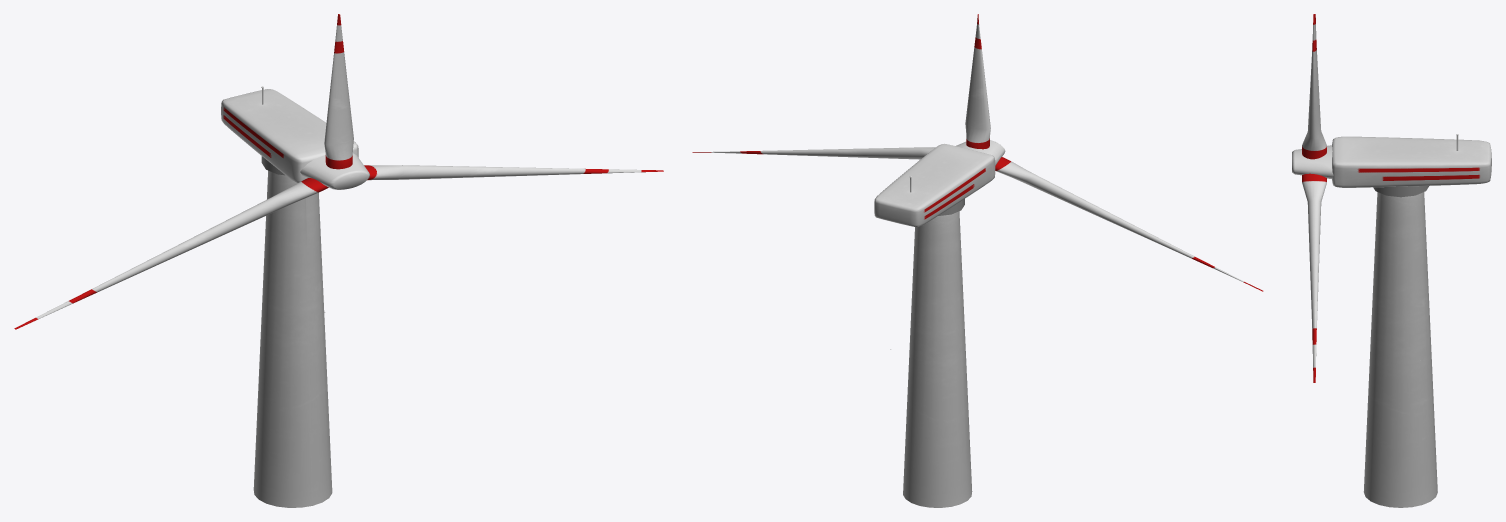
File: turbine_new_small_degenerate_all.glb
The picture shows the model from 3 angles, left to right: view 1: azimuth 30°, elevation 25°; view 2: azimuth 150°, elevation 25°; view 3: azimuth 270°, elevation 25°; orthographic projection. The views are drawn at different scales.
Parts seen in each view (by area): view 1: polySurface12_lambert1_0.001, polySurface10_lambert1_0.001, polySurface11_lambert1_0.001; view 2: polySurface12_lambert1_0.001, polySurface10_lambert1_0.001, polySurface11_lambert1_0.001; view 3: polySurface12_lambert1_0.001, polySurface11_lambert1_0.001, polySurface10_lambert1_0.001, polySurface9_lambert1_0.001.
Part boxes in pixels (<box>): polySurface12_lambert1_0.001: <box>253,170,332,507</box>; polySurface10_lambert1_0.001: <box>14,14,663,329</box>; polySurface11_lambert1_0.001: <box>221,89,358,182</box>; polySurface12_lambert1_0.001: <box>903,211,972,507</box>; polySurface10_lambert1_0.001: <box>692,14,1263,291</box>; polySurface11_lambert1_0.001: <box>874,143,995,226</box>; polySurface12_lambert1_0.001: <box>1363,192,1437,507</box>; polySurface11_lambert1_0.001: <box>1332,136,1491,187</box>; polySurface10_lambert1_0.001: <box>1292,14,1333,382</box>; polySurface9_lambert1_0.001: <box>1373,186,1428,197</box>.
Size of the model in its own units: 4.95 by 3.72 by 1.41.
Materials: 2 (2 with a texture image).
